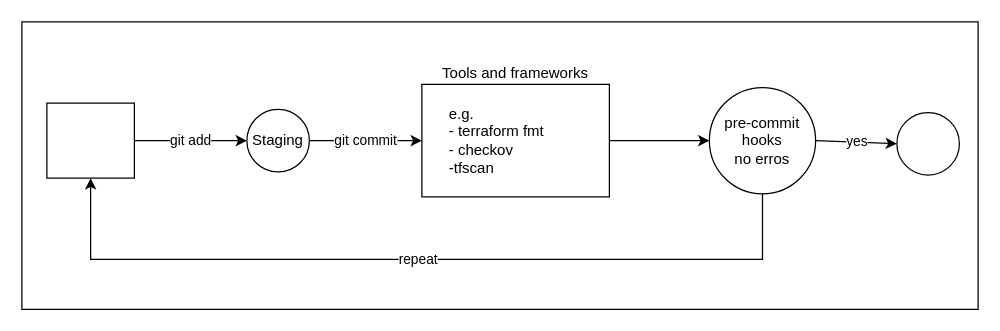
Image size: 1000x331. Some labels were removed from this diagram. Each missing label, with the centre of its shape:
commit: [927,143]
File Diffs: [90,140]
